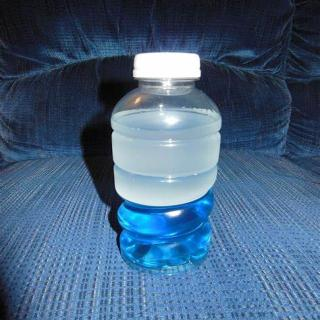Anorganik: (109, 46, 220, 270)
